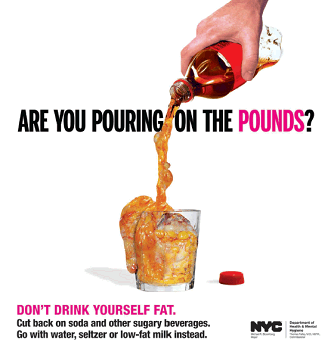Plastic bottle: (156, 12, 301, 109)
